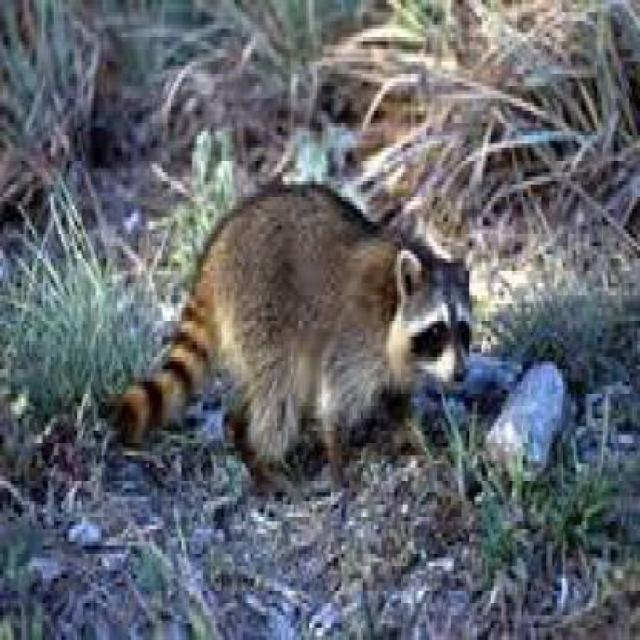raccon: (110, 174, 476, 488)
